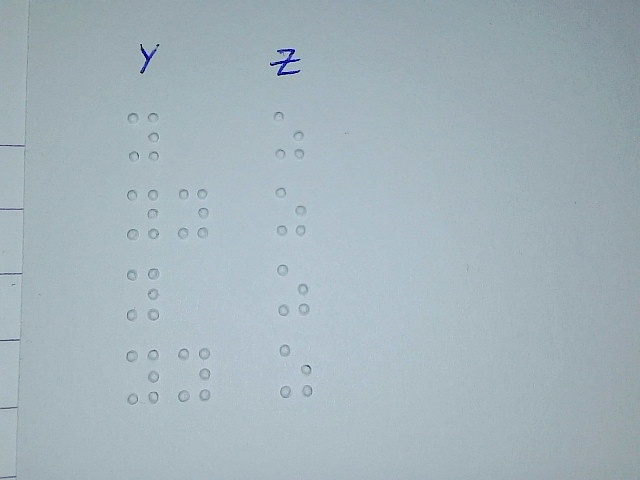Y: (125, 266, 161, 322), (176, 346, 212, 402), (125, 110, 161, 163), (175, 186, 211, 239)
Z: (275, 262, 311, 317), (278, 342, 314, 397), (271, 108, 307, 161), (272, 184, 308, 237)
